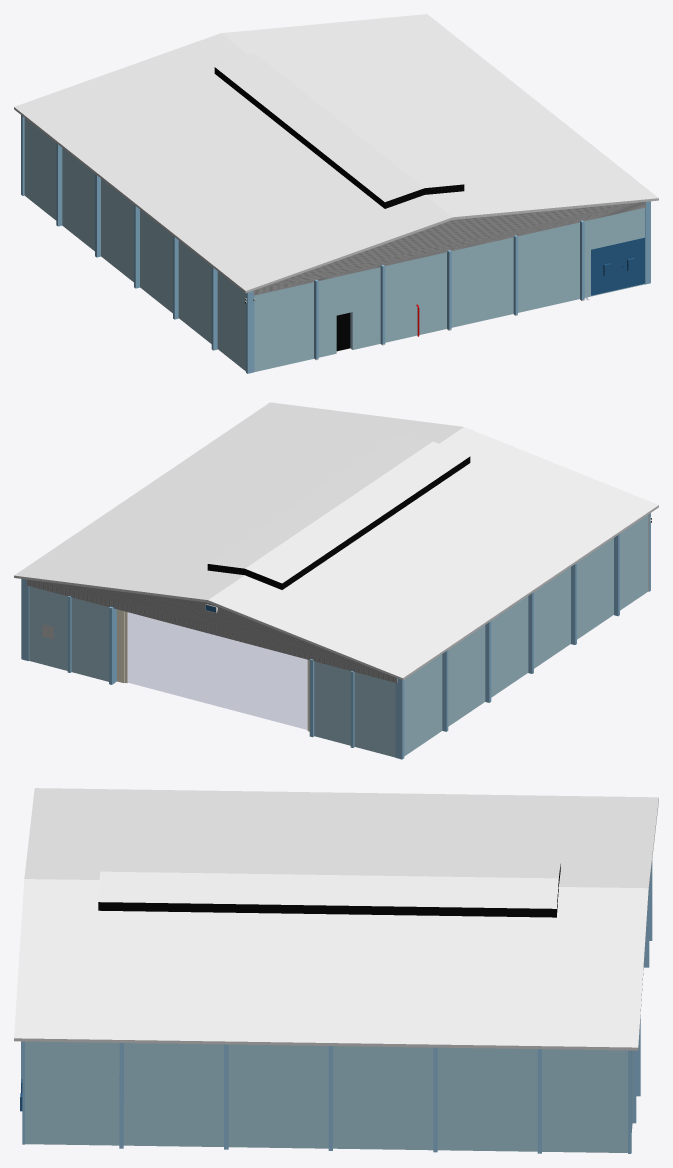
The model's file is Hangar1.gltf.
3 renders of one model, top to bottom at view 1: azimuth 30°, elevation 25°; view 2: azimuth 150°, elevation 25°; view 3: azimuth 270°, elevation 25°, orthographic. The views are drawn at different scales.
Visible parts, largest first — view 1: node2, node9, node10, node4, node6, node8, node1; view 2: node2, node9, node3, node10, node4, node1, node8, node11; view 3: node2, node9, node4, node8, node1.
Part boxes in pixels (bbox=[...]): node2: bbox=[14, 14, 658, 360]; node9: bbox=[24, 118, 644, 371]; node10: bbox=[253, 202, 645, 295]; node4: bbox=[21, 115, 650, 373]; node6: bbox=[591, 237, 644, 295]; node8: bbox=[214, 67, 628, 351]; node1: bbox=[14, 107, 658, 299]; node2: bbox=[14, 402, 658, 682]; node9: bbox=[29, 515, 648, 757]; node3: bbox=[127, 612, 307, 729]; node10: bbox=[26, 579, 396, 682]; node4: bbox=[21, 513, 650, 759]; node1: bbox=[14, 505, 658, 680]; node8: bbox=[207, 456, 651, 589]; node11: bbox=[117, 609, 309, 731]; node2: bbox=[14, 788, 658, 1047]; node9: bbox=[25, 1041, 632, 1152]; node4: bbox=[21, 860, 652, 1153]; node8: bbox=[98, 864, 560, 917]; node1: bbox=[14, 799, 658, 1050].
Bounding box in the file's own units: 32.11 × 8.86 × 33.73.
